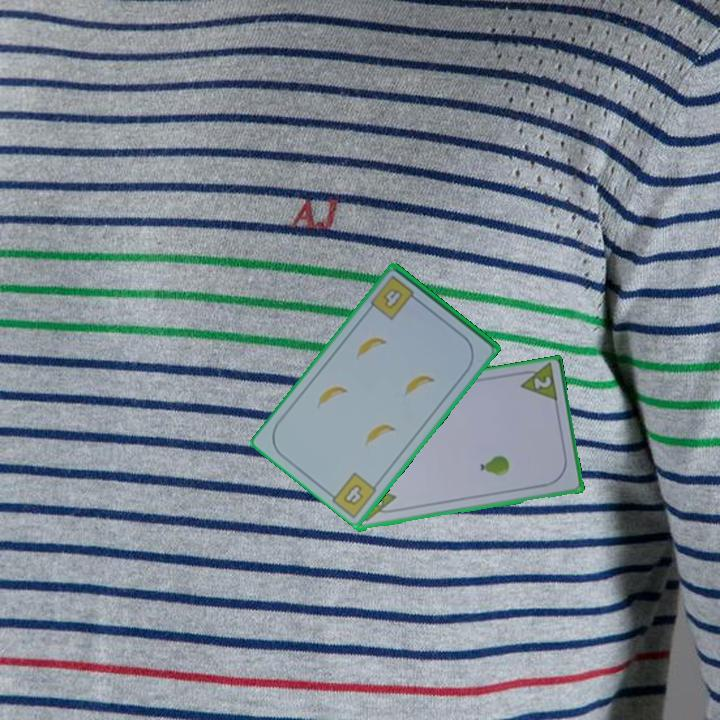2p: (513, 361, 560, 406)
4b: (369, 272, 423, 323), (339, 481, 366, 509)
